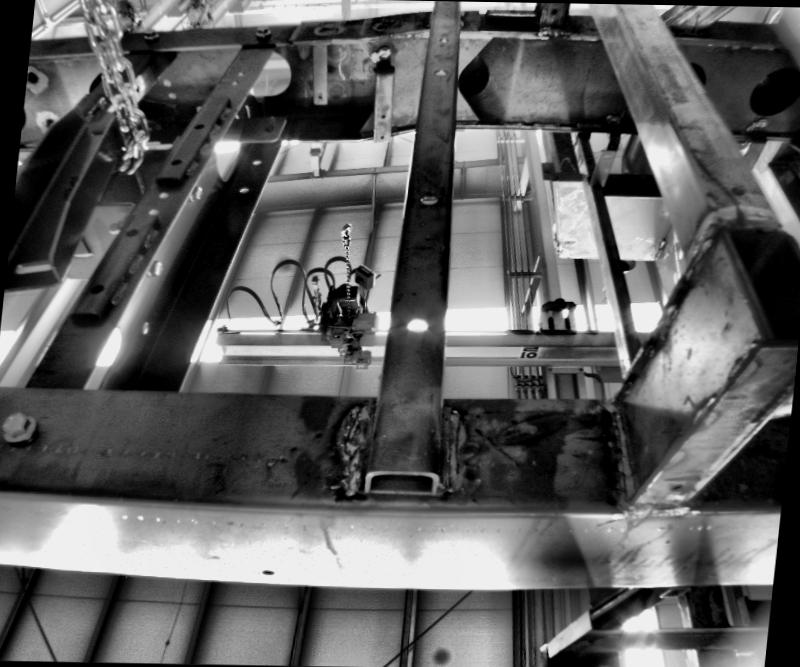bolt: (1, 411, 40, 442), (186, 181, 206, 201), (145, 259, 165, 278), (251, 24, 274, 38), (140, 27, 160, 43), (378, 46, 392, 57)
bracket: (364, 45, 398, 145), (232, 109, 289, 143), (584, 142, 624, 188), (306, 40, 334, 105)
hole: (222, 50, 296, 95), (401, 310, 432, 339), (416, 188, 441, 205), (728, 184, 747, 196), (138, 318, 152, 333), (27, 69, 41, 82), (88, 282, 103, 293), (669, 482, 682, 494), (192, 121, 206, 129), (122, 227, 136, 235), (433, 68, 448, 75), (260, 124, 273, 132), (146, 207, 160, 214), (260, 568, 274, 574), (169, 158, 181, 164), (157, 192, 168, 198), (600, 152, 611, 158), (239, 186, 248, 193), (251, 157, 261, 163), (438, 36, 448, 41), (231, 78, 239, 83), (317, 92, 323, 98), (552, 7, 558, 12), (239, 69, 244, 75), (380, 113, 384, 118), (380, 135, 386, 138)
welding: (433, 402, 477, 490), (338, 392, 362, 492)
